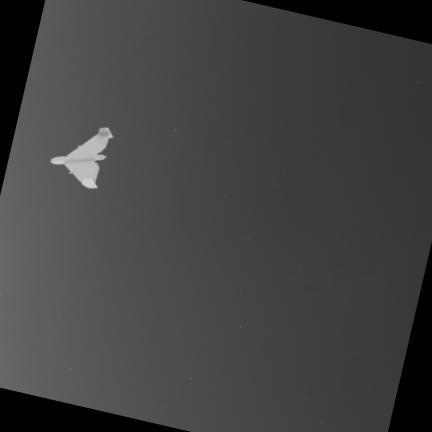Shahed: (50, 128, 112, 189)
